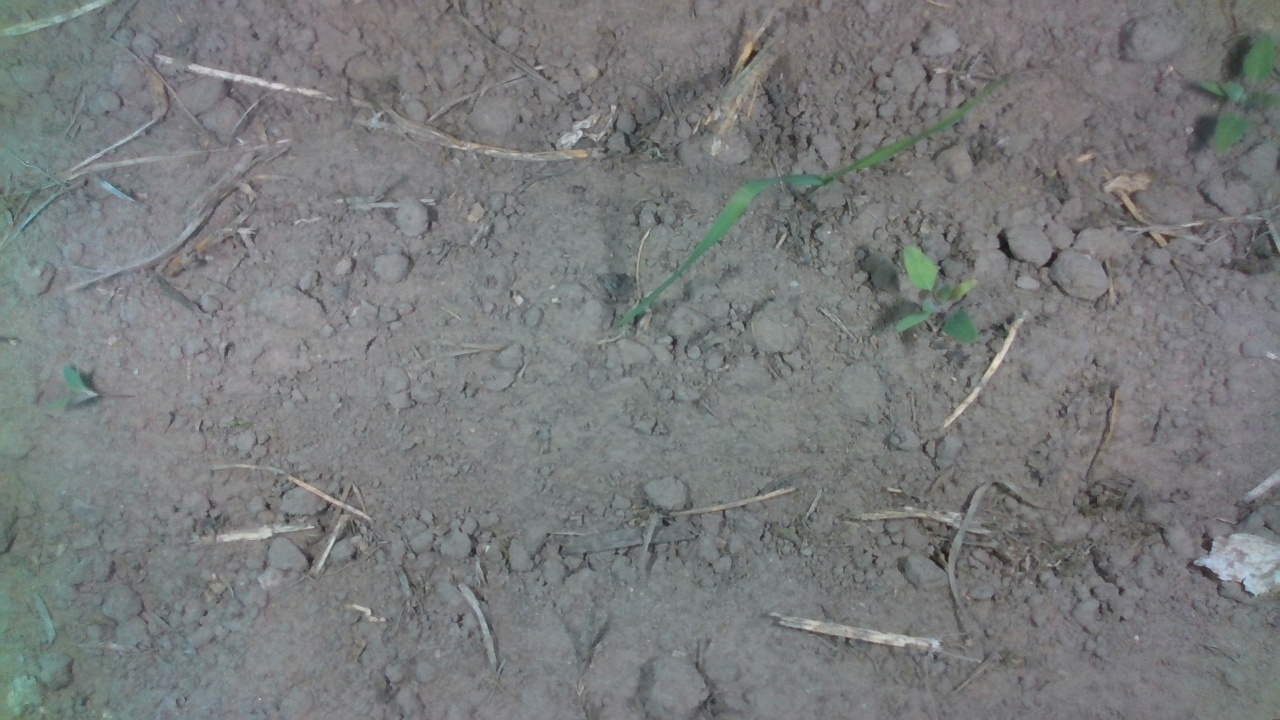weed: (889, 240, 983, 347)
